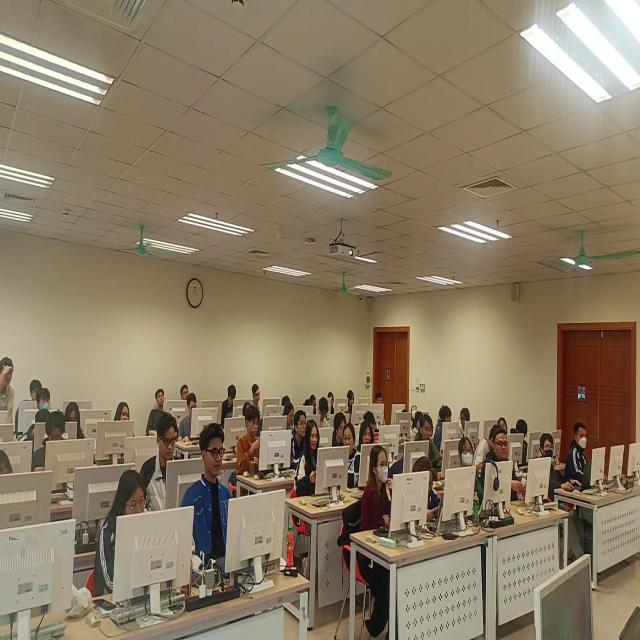raise_hand: (1, 355, 16, 426)
raise_head: (180, 423, 234, 568), (141, 414, 180, 514), (483, 429, 525, 505), (361, 445, 395, 533), (294, 419, 323, 500), (564, 422, 593, 489), (415, 414, 444, 479), (540, 433, 572, 490), (459, 438, 483, 504), (343, 422, 361, 490), (291, 410, 309, 471), (147, 389, 169, 435), (359, 422, 375, 453), (37, 388, 52, 412), (115, 402, 132, 421), (31, 380, 44, 402), (497, 419, 509, 435), (181, 384, 191, 401), (243, 402, 253, 417), (412, 406, 419, 425)
using_computer: (95, 470, 150, 598), (33, 411, 66, 473), (474, 425, 501, 471), (511, 420, 535, 466), (179, 393, 199, 445), (65, 401, 90, 441), (222, 385, 240, 430), (376, 394, 397, 426), (332, 414, 347, 448), (318, 397, 332, 429), (411, 412, 424, 442), (252, 384, 264, 414), (1, 449, 14, 476), (284, 403, 296, 432), (304, 394, 318, 415), (364, 412, 376, 436), (328, 393, 337, 415), (348, 391, 357, 412), (282, 394, 292, 406), (401, 409, 410, 414)
using_phone: (413, 458, 441, 525), (237, 408, 262, 475)
